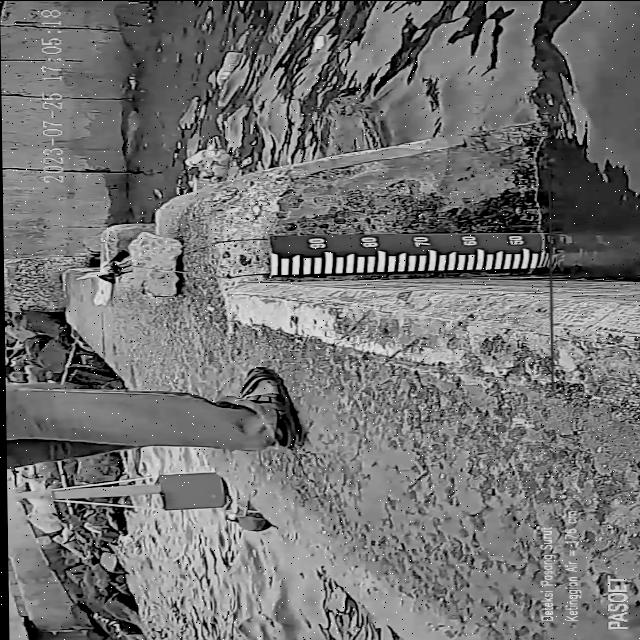water-meter: (258, 225, 571, 281)
